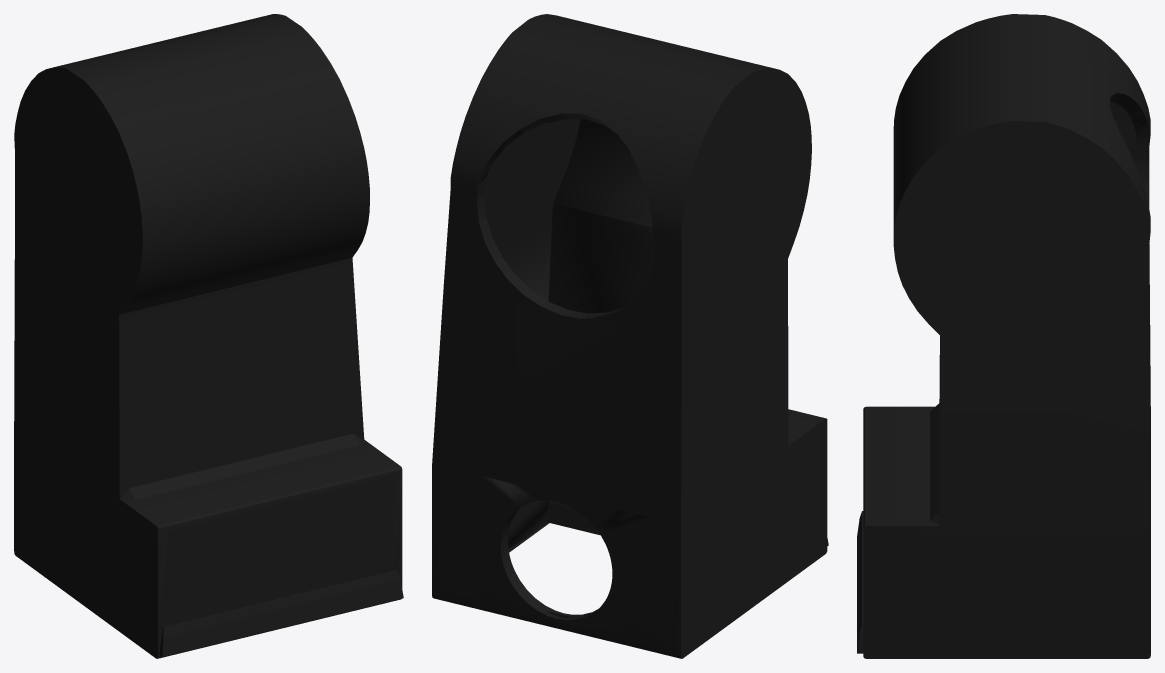
The model's file is RSPiernaIzq.obj.
3 views of the same model, side by side, from view 1: azimuth 30°, elevation 25°; view 2: azimuth 150°, elevation 25°; view 3: azimuth 270°, elevation 25° (orthographic).
Visible parts, largest first — view 1: PiernaIzq; view 2: PiernaIzq; view 3: PiernaIzq.
Part boxes in pixels (x1,y1,x2,y2): PiernaIzq: (14, 14, 403, 658); PiernaIzq: (432, 14, 828, 658); PiernaIzq: (857, 14, 1150, 658).
Size of the model in its own units: 10.8 by 22.18 by 11.23.
